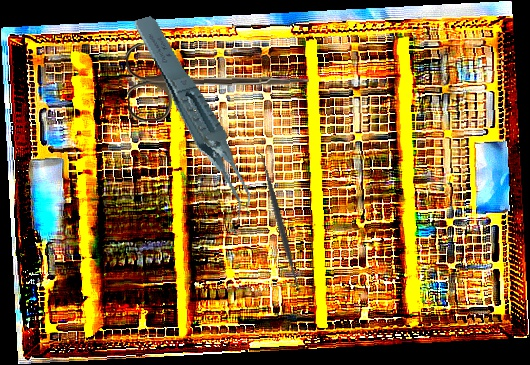Iris Scissors: (125, 36, 311, 123)
Spatula Surgical: (252, 148, 307, 296)
Tissue Forceps: (131, 3, 256, 233)
